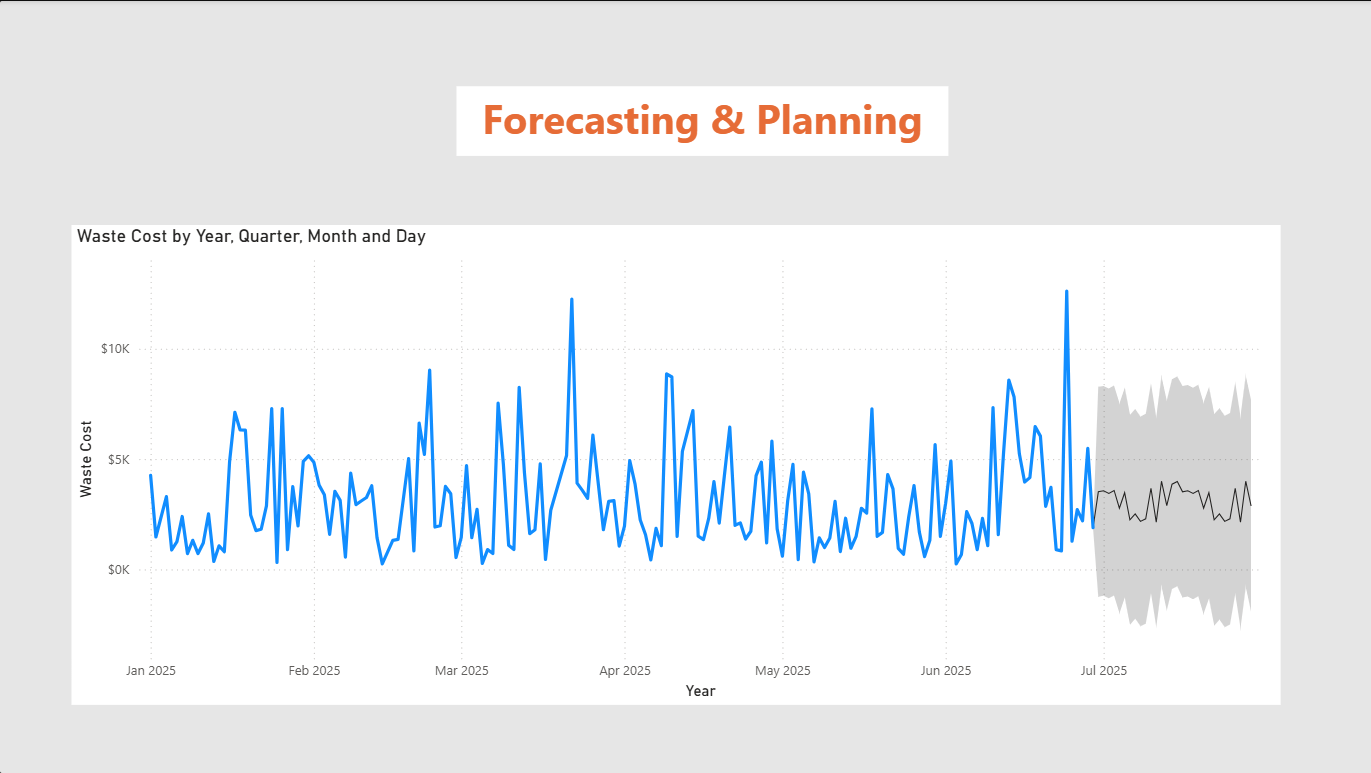

This screenshot's page, from the dashboard's own definition file:
{"tool":"powerbi","page":{"name":"Page 4","canvas":[1280,720],"ordinal":3},"visuals":[{"type":"lineChart","fields":{"Y":["MeasureTable.Waste Cost"],"Category":["Calender.Date.Variation.Date Hierarchy.Year","Calender.Date.Variation.Date Hierarchy.Quarter","Calender.Date.Variation.Date Hierarchy.Month","Calender.Date.Variation.Date Hierarchy.Day"]},"box":[67.4,209.3,1124.4,446.5],"z":0},{"type":"textbox","box":[425.5,80.6,457.5,65.2],"z":1000}]}

Visuals, with their boxes in screenshot pixels (x1, y1, x2, y2), scaled from the page's 1280x720 canvas onto the 1371x773 screenshot:
lineChart - MeasureTable.Waste Cost x Calender.Date.Variation.Date Hierarchy.Year: {"x1": 72, "y1": 225, "x2": 1277, "y2": 704}
textbox: {"x1": 456, "y1": 87, "x2": 946, "y2": 157}
